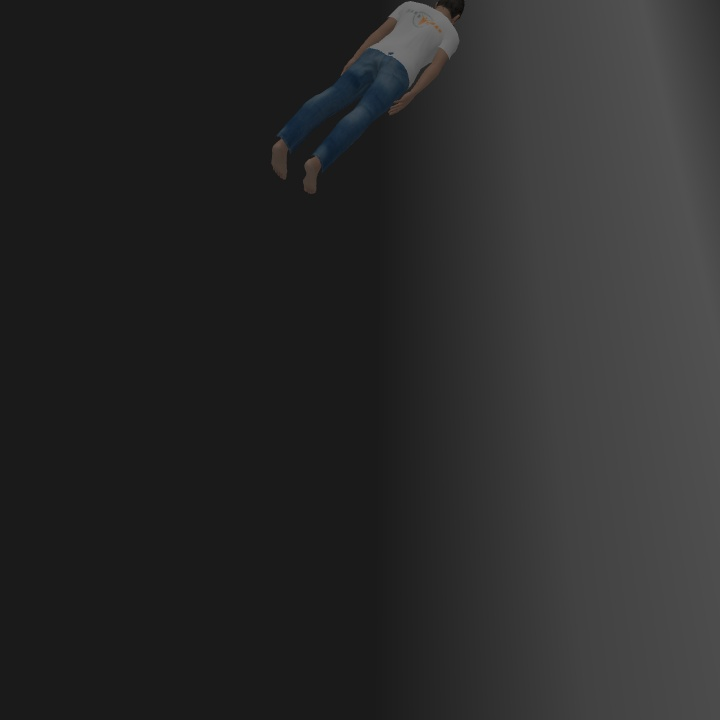victim: (272, 1, 463, 196)
